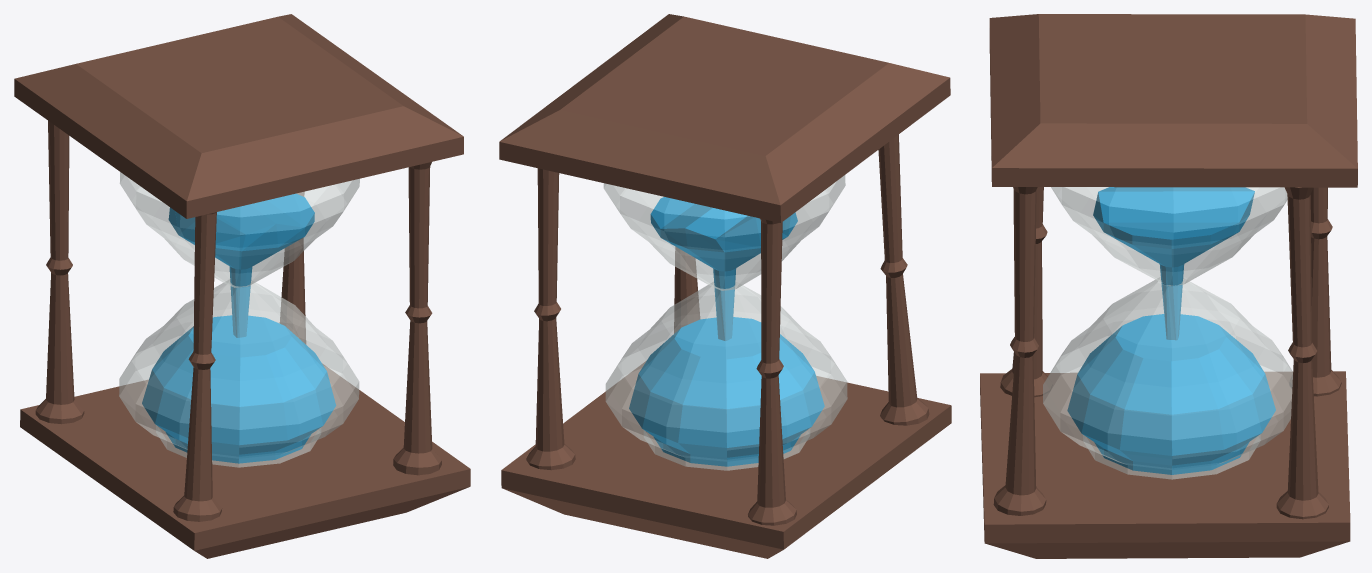
The model's file is Hourglass.glb.
3 views of the same model, side by side, from view 1: azimuth 30°, elevation 25°; view 2: azimuth 150°, elevation 25°; view 3: azimuth 270°, elevation 25° (orthographic). The views are drawn at different scales.
Parts seen in each view (by area): view 1: Node; view 2: Node; view 3: Node.
Boxes of the visible parts, <box> form: Node: <box>14,14,470,558</box>; Node: <box>499,14,951,558</box>; Node: <box>980,14,1357,558</box>.
Size of the model in its own units: 0.3365 by 0.4625 by 0.3614.
